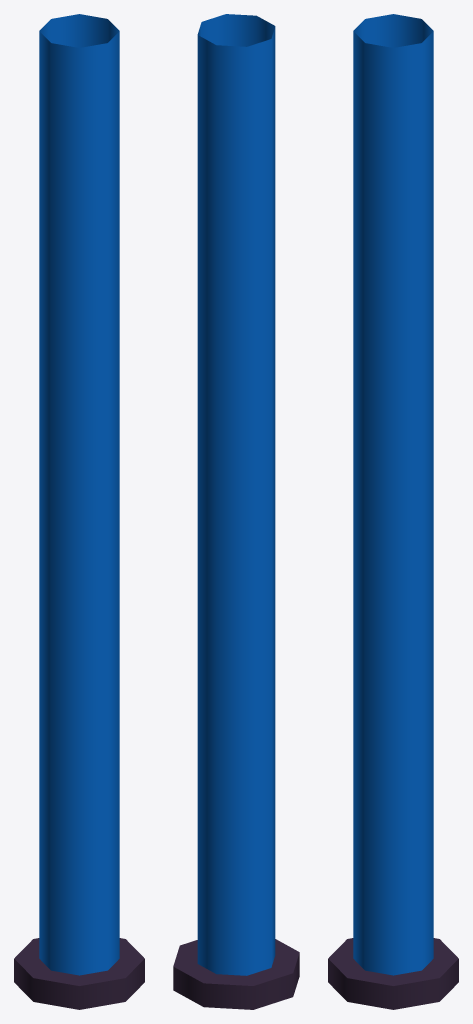
File: Tap_half_.fbx
3 renders of one model, left to right at view 1: azimuth 90°, elevation 25°; view 2: azimuth 150°, elevation 25°; view 3: azimuth 270°, elevation 25°, orthographic.
Parts seen in each view (by area): view 1: Cylinder005; view 2: Cylinder005; view 3: Cylinder005.
Boxes of the visible parts, left/top/right/bottom form: Cylinder005: left=14, top=14, right=144, bottom=1009; Cylinder005: left=173, top=14, right=299, bottom=1009; Cylinder005: left=328, top=14, right=458, bottom=1009.
Bounding box in the file's own units: 0.1093 × 0.8772 × 0.1093.
